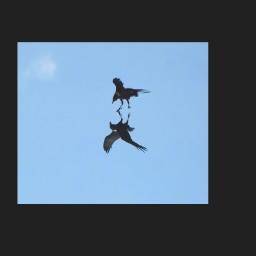Crow: (102, 109, 149, 154)
